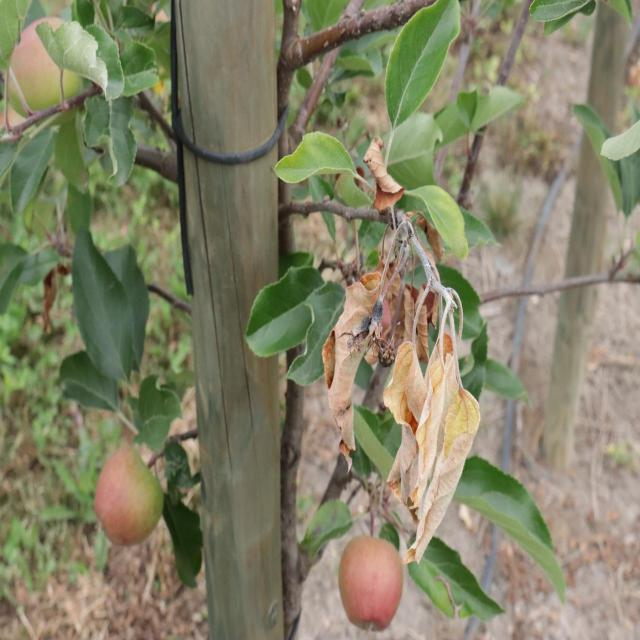-FireBlight-: (286, 178, 484, 538)
